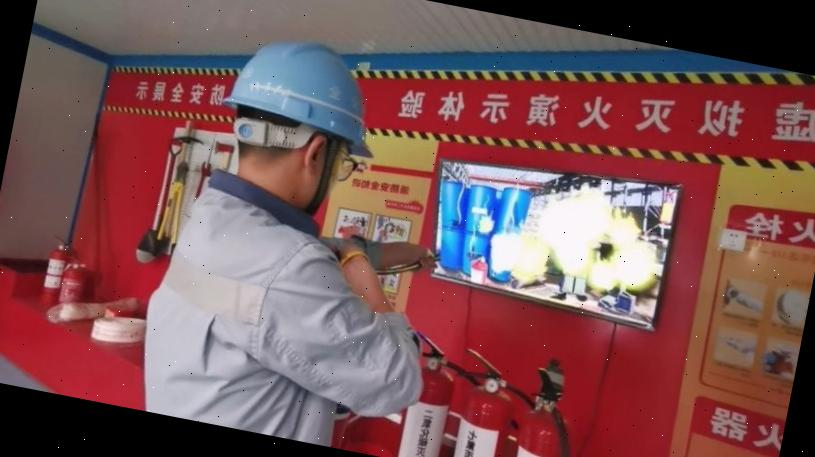helmet: (209, 22, 398, 158)
wear: (130, 204, 382, 448)
